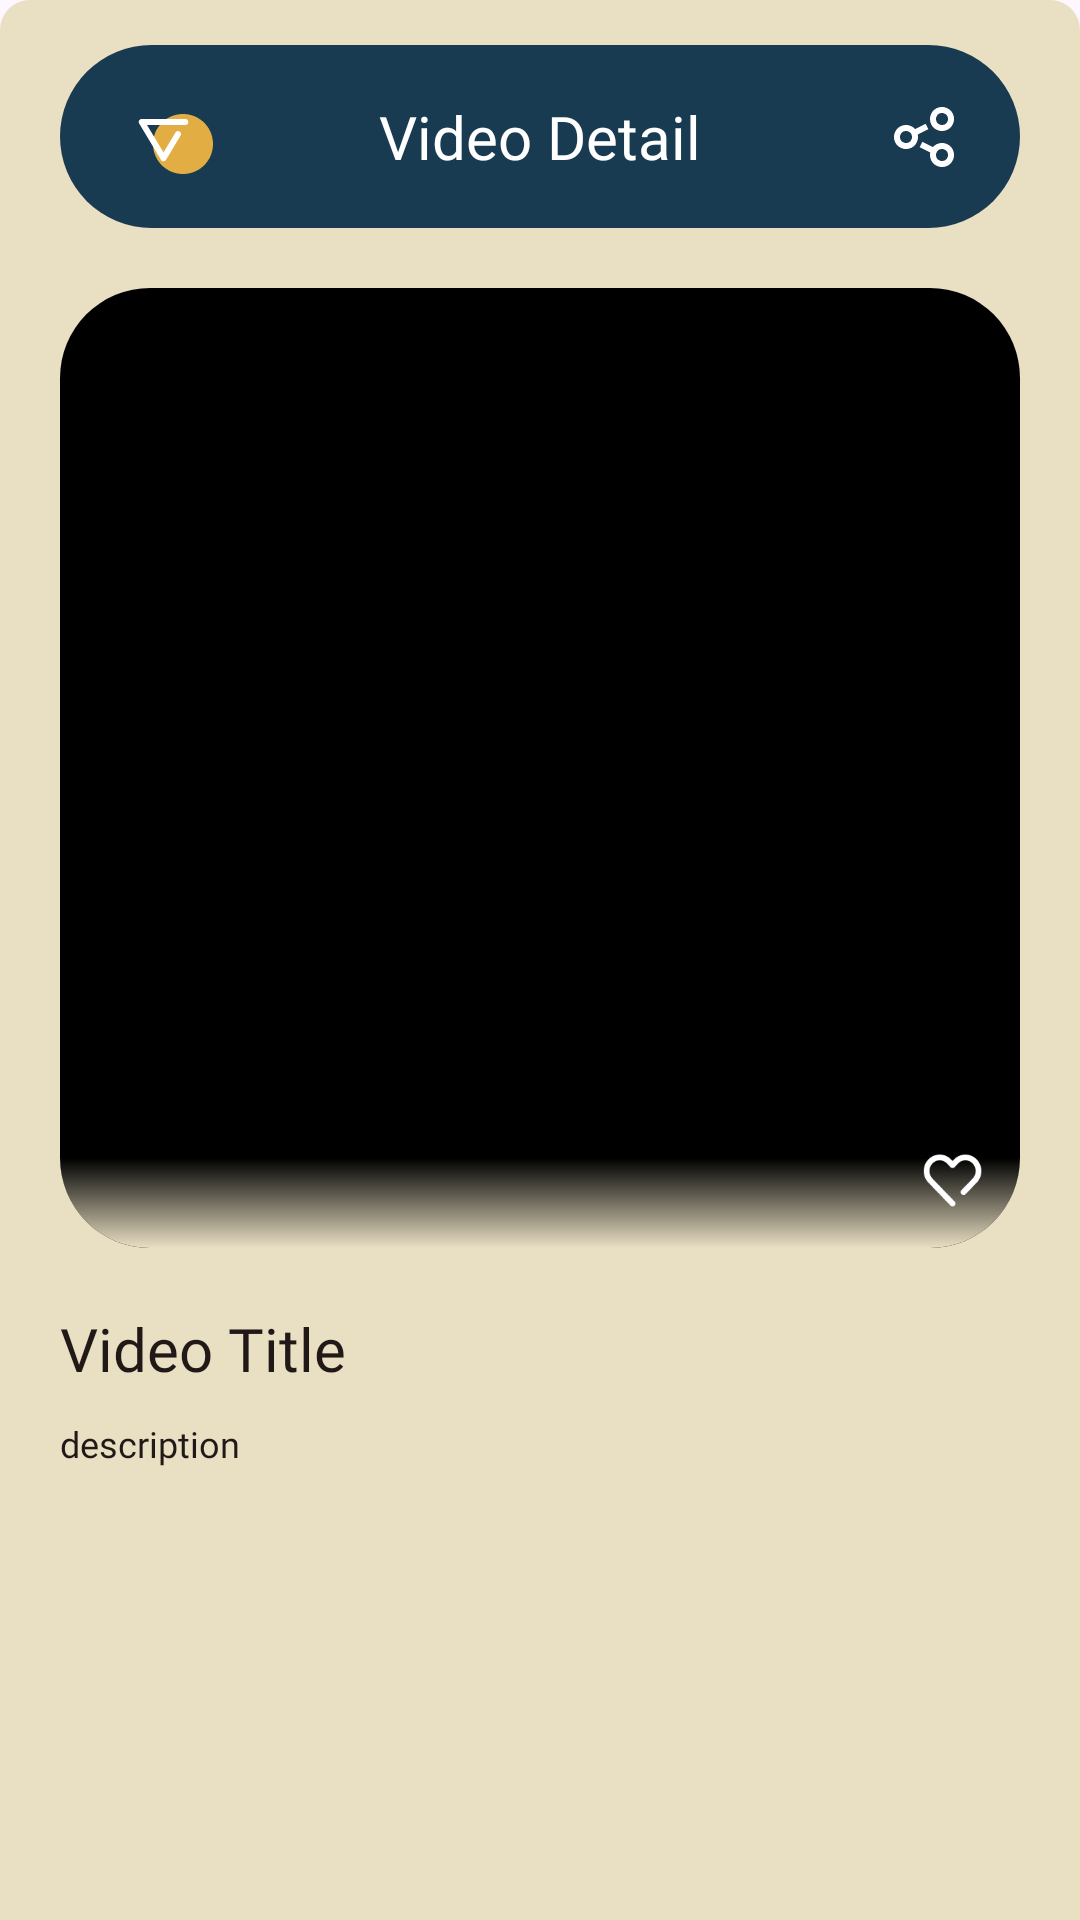

Icon click points for this 1080px×1920px phone screenshot, format (x=x, y=y):
favorite: (x=954, y=1180)
share: (x=924, y=137)
